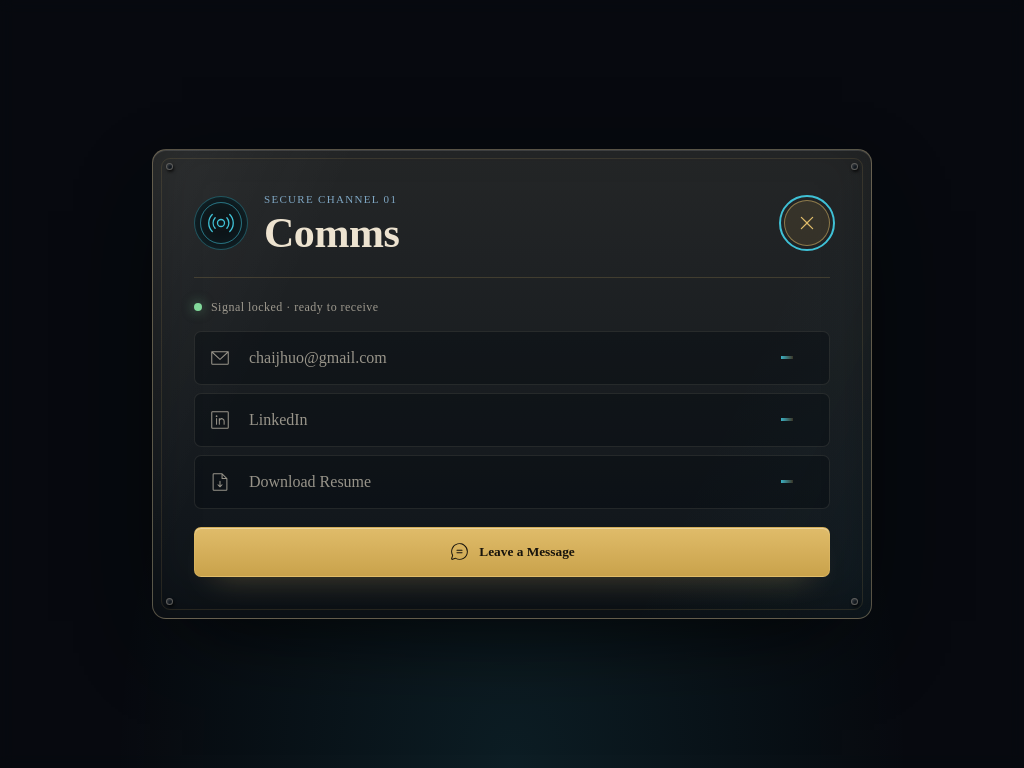
Scenario: Contact › keeps the message dialog user initiated and restores focus inside comms when it closes
Expected: the dialog "Send a message" is not shown
Click the button "Leave a Message" at (512, 552), box [194,527,830,577]
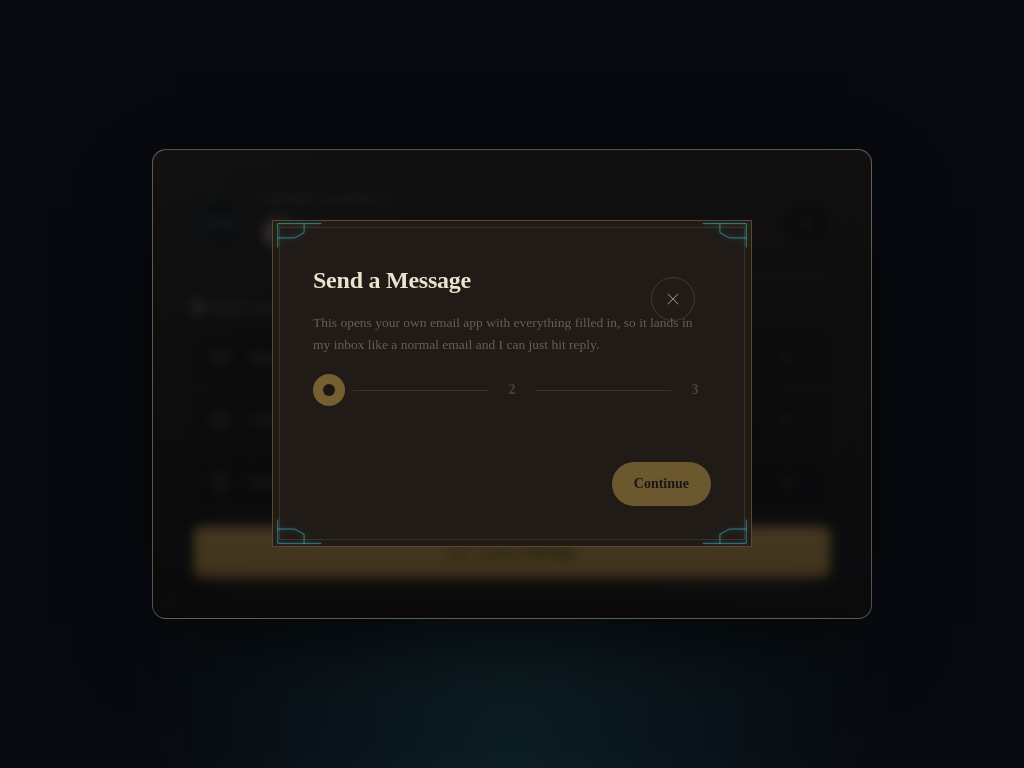
Expected: the dialog "Send a Message" is shown, [272,220,752,547]
Press Escape
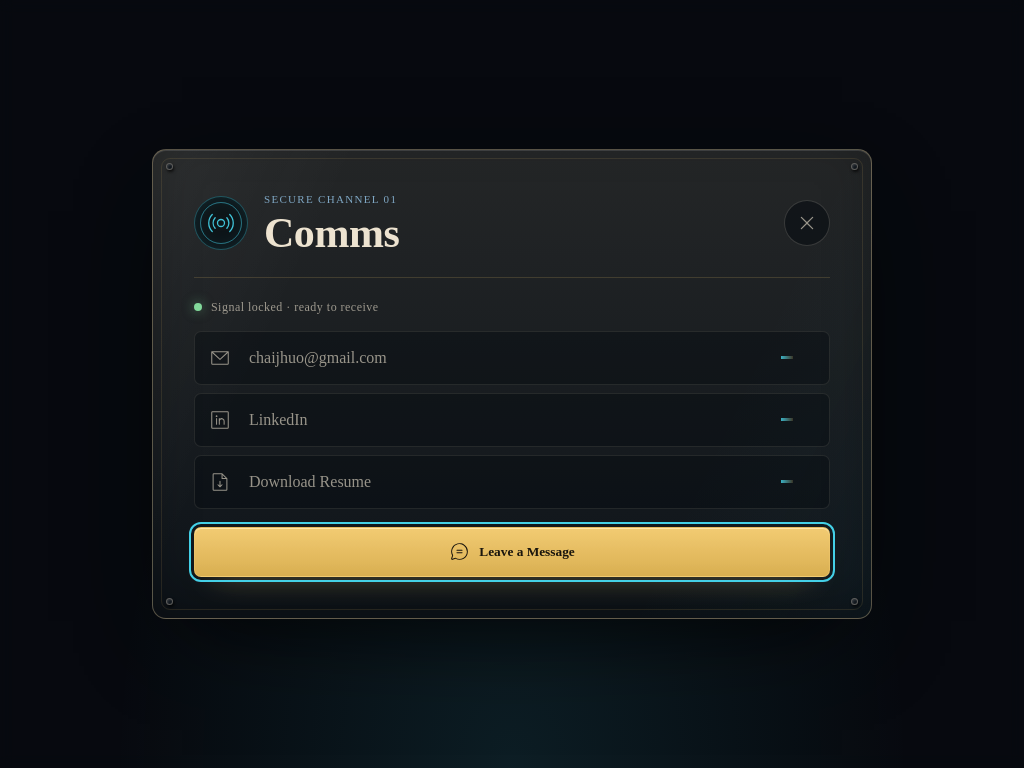
Expected: the heading "Send a Message" is gone
